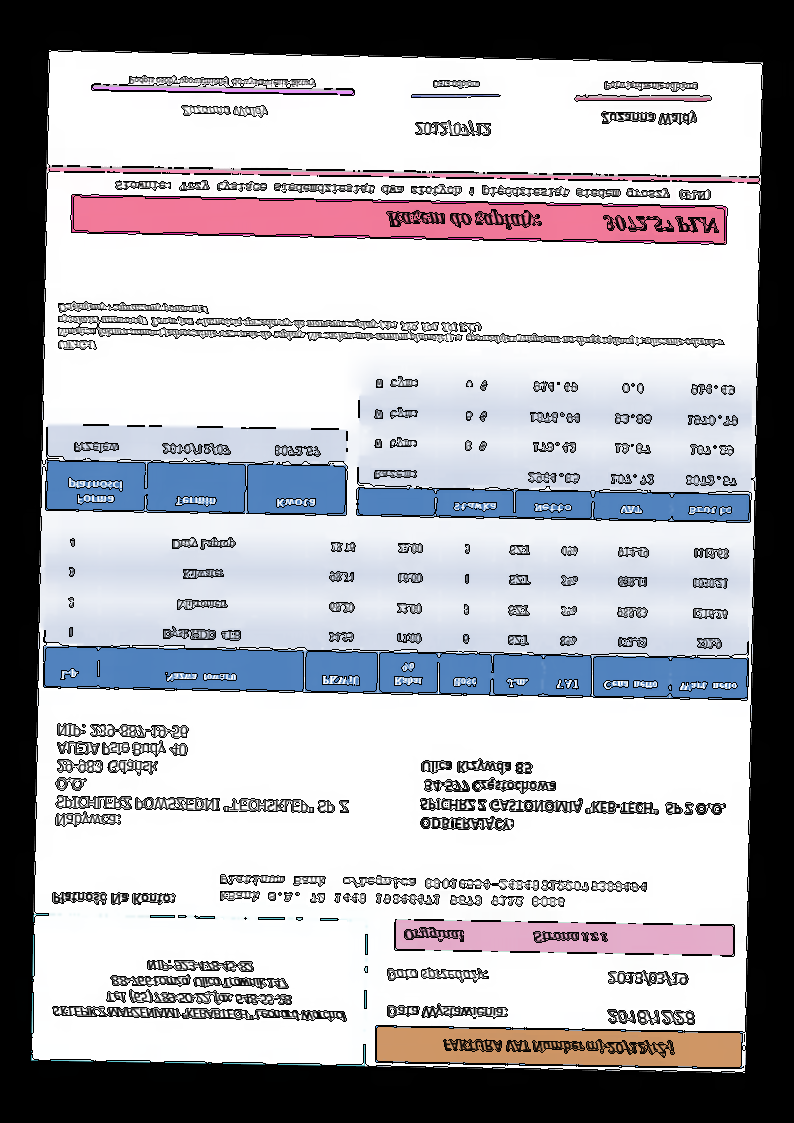Table: (41, 521, 753, 704), (355, 363, 755, 526), (44, 423, 349, 519)
TextBox: (55, 299, 729, 364), (53, 720, 353, 835), (416, 756, 729, 838), (50, 954, 351, 1026), (215, 871, 651, 913), (113, 177, 713, 204), (383, 206, 722, 239), (441, 1035, 678, 1058), (401, 923, 610, 948), (125, 73, 319, 93), (384, 1000, 511, 1025), (381, 964, 493, 988), (50, 889, 179, 908), (597, 108, 700, 131), (605, 1004, 697, 1029), (602, 77, 700, 97), (410, 118, 493, 141), (177, 102, 271, 122), (604, 968, 691, 988), (429, 76, 482, 94)
